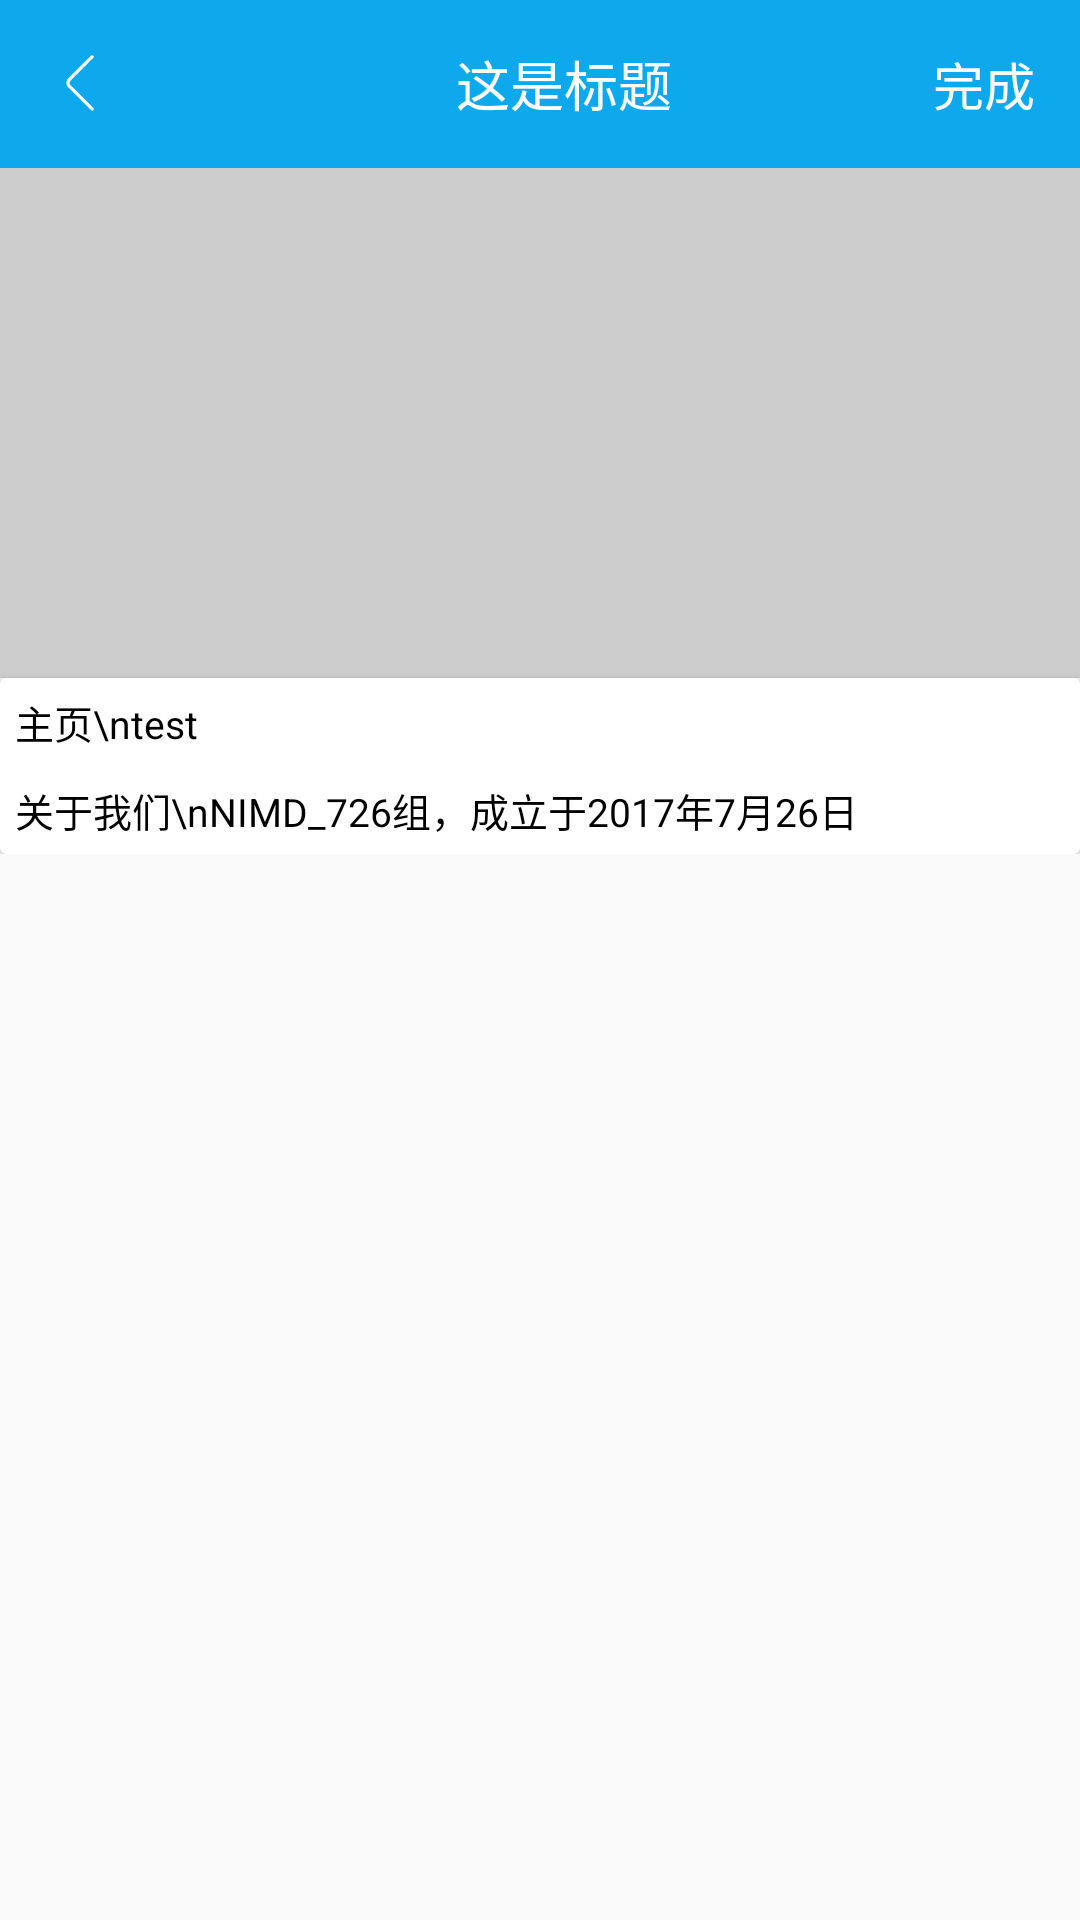

Where icons sit on this 1080 x 1920 app screen, as (x1, y1, x2, y2):
back: (66, 55, 94, 111)
